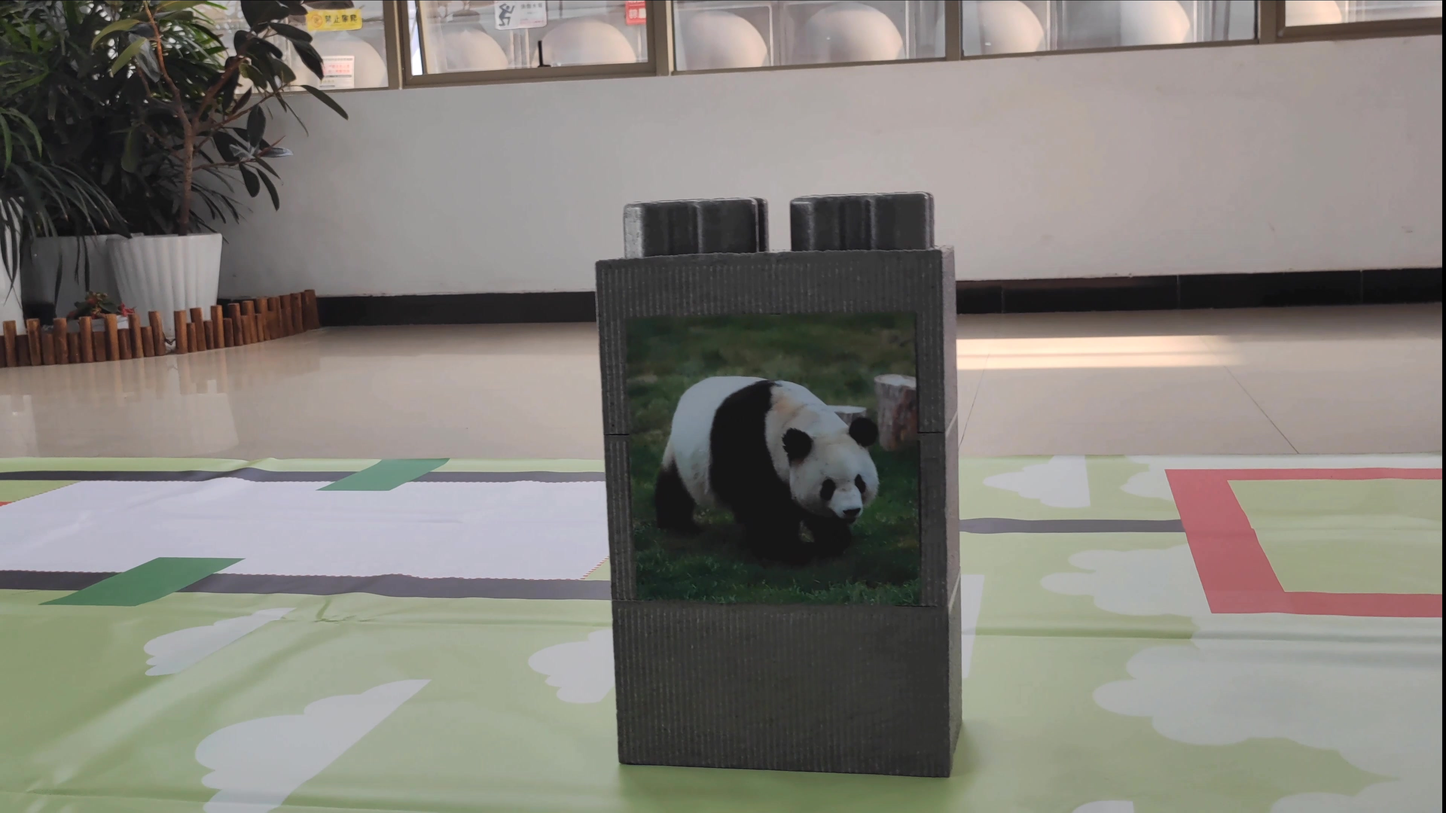panda: (631, 358, 901, 584)
